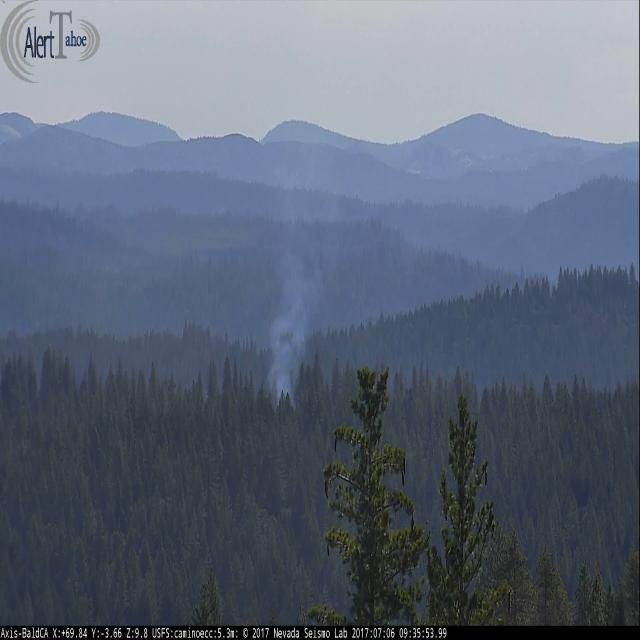smoke: (273, 240, 314, 419)
